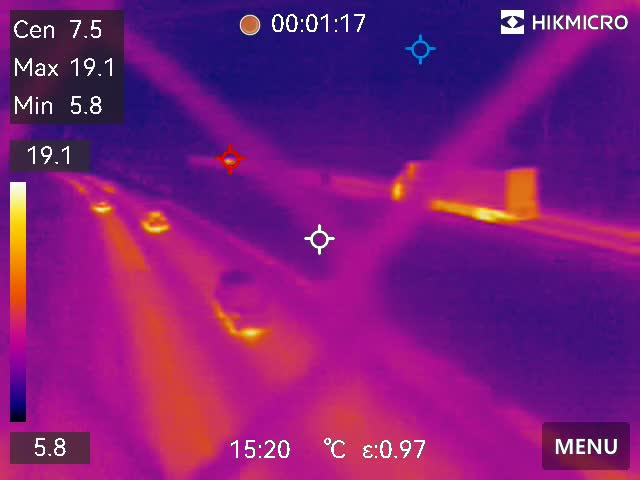heavyTruck: (392, 151, 539, 223)
